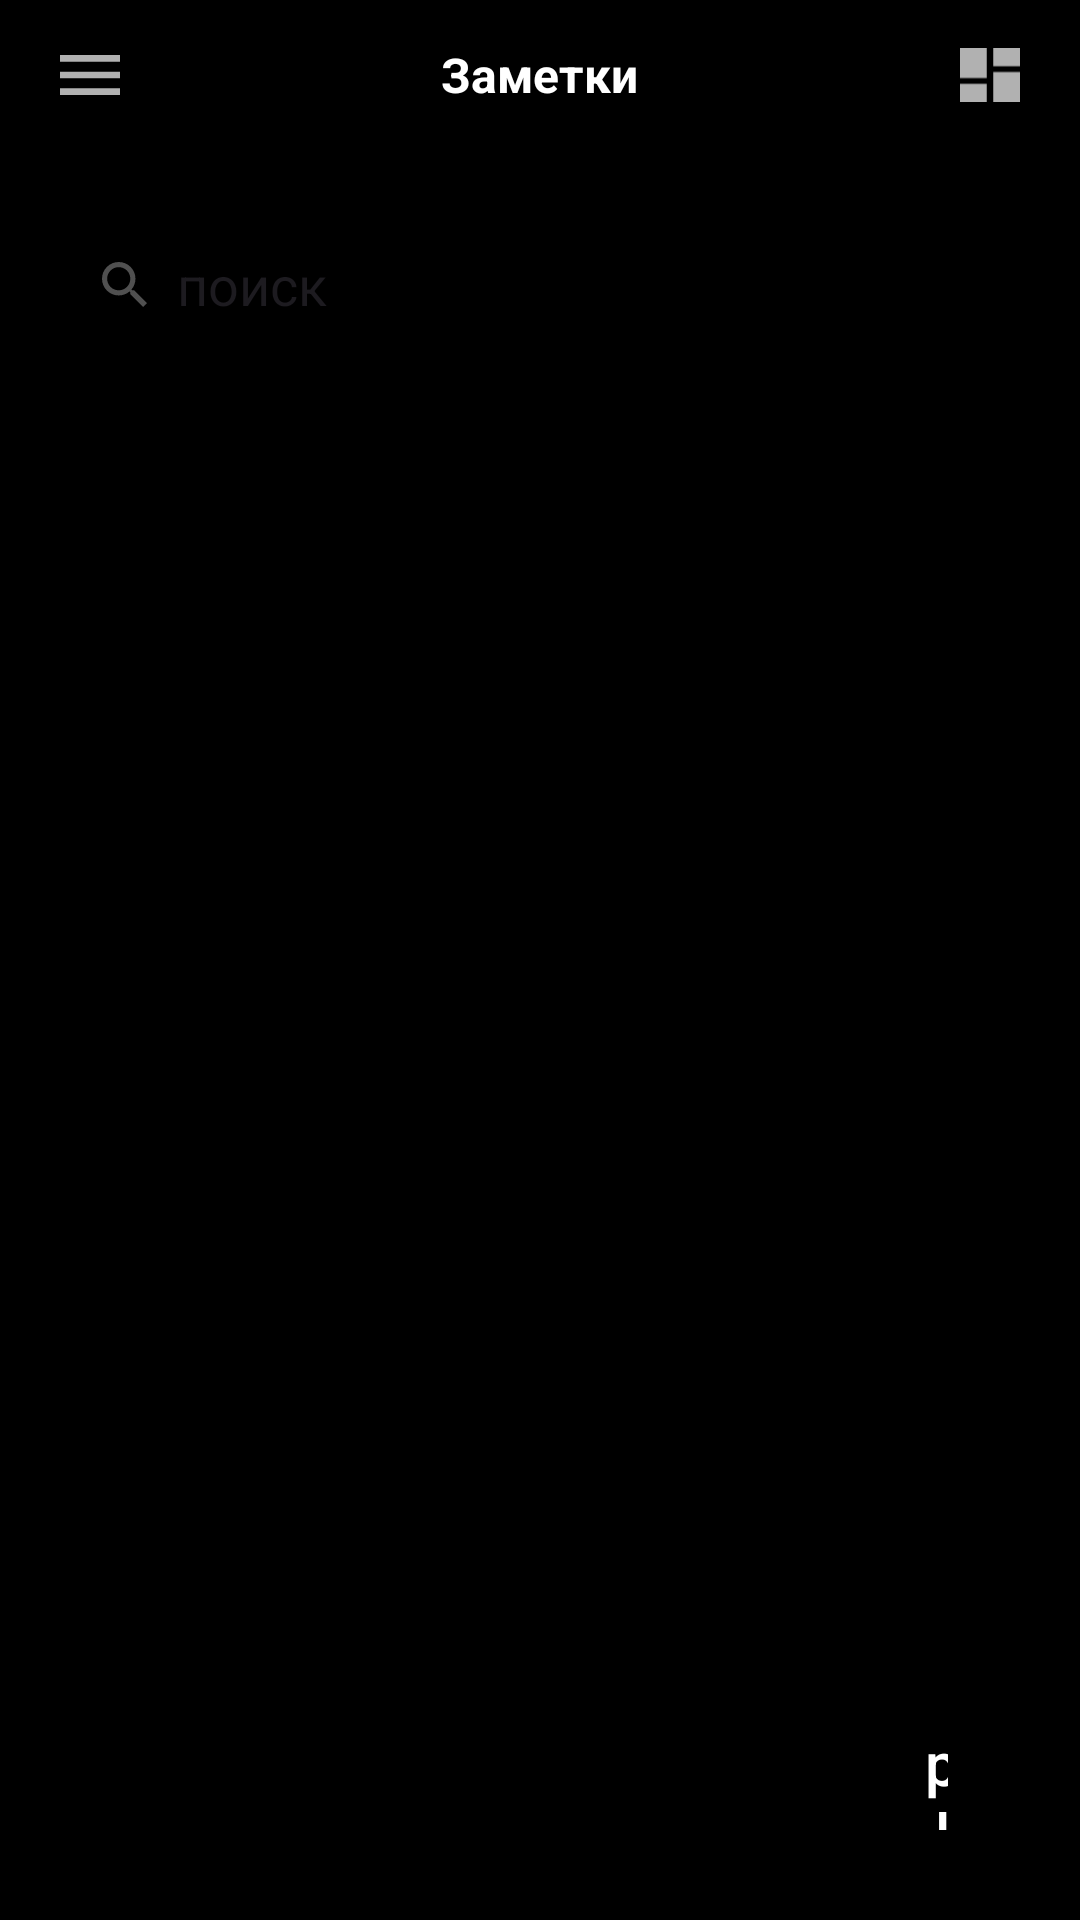

Icons on this 1080*1920 Android screen, each with the point to tap as point (x, y):
menu: point (90, 75)
